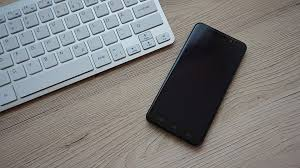mobil: (144, 20, 247, 147)
